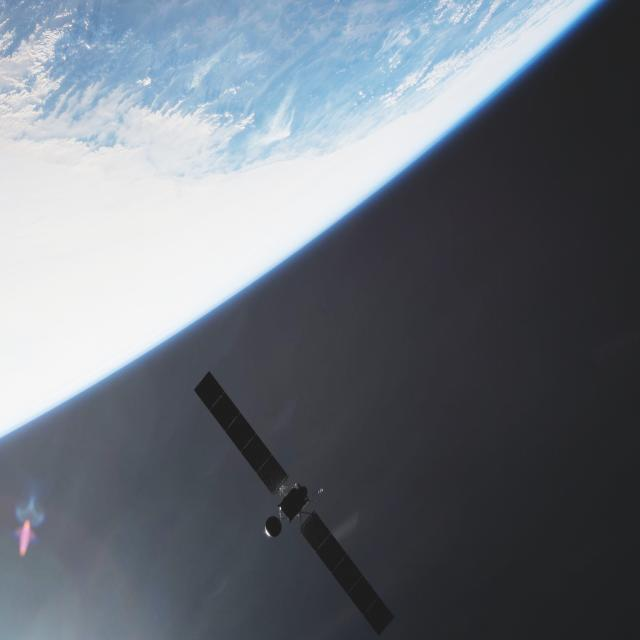satellite: (188, 360, 398, 639)
